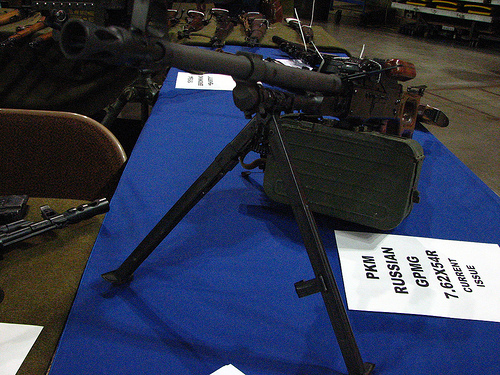rifle: (72, 16, 464, 352)
